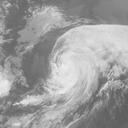cyclone: (51, 39, 94, 92)
